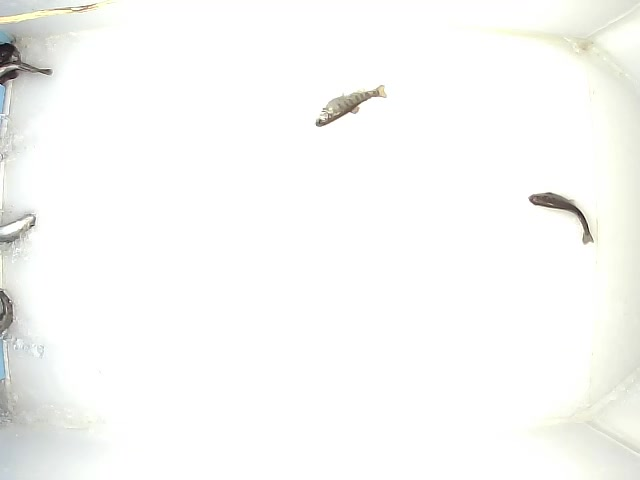fish: (526, 191, 595, 246), (312, 84, 388, 128)
